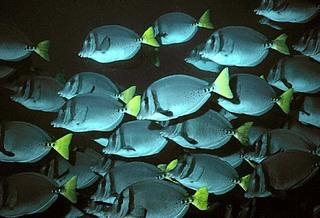Acanthuridae -Surgeonfishes-: (137, 65, 230, 121), (155, 101, 251, 148), (198, 24, 291, 69), (165, 151, 252, 197), (111, 178, 207, 217), (51, 94, 142, 134), (0, 117, 73, 164), (76, 26, 161, 64)
